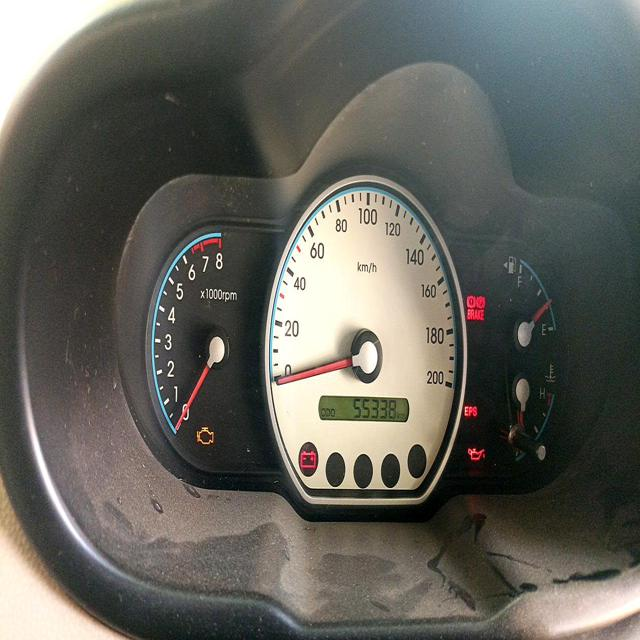odometer: (352, 392, 397, 422)
